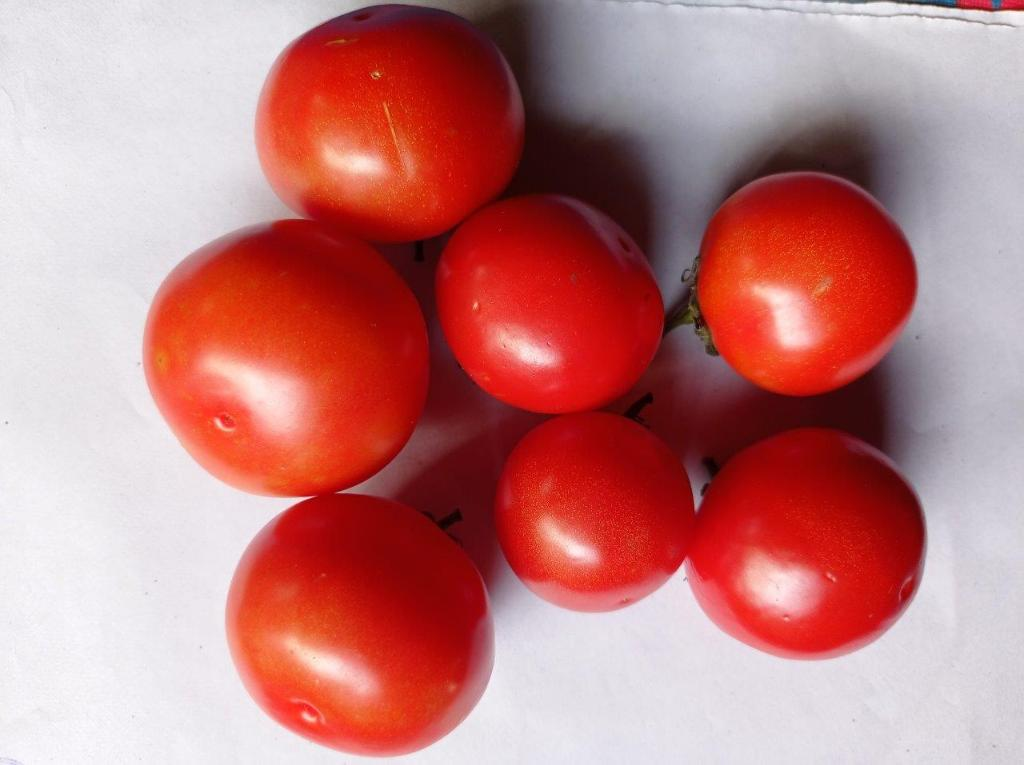tomato: (146, 222, 427, 494), (228, 498, 492, 754), (258, 6, 523, 238), (690, 429, 924, 657), (695, 174, 915, 394), (437, 198, 661, 410), (497, 414, 692, 610)
